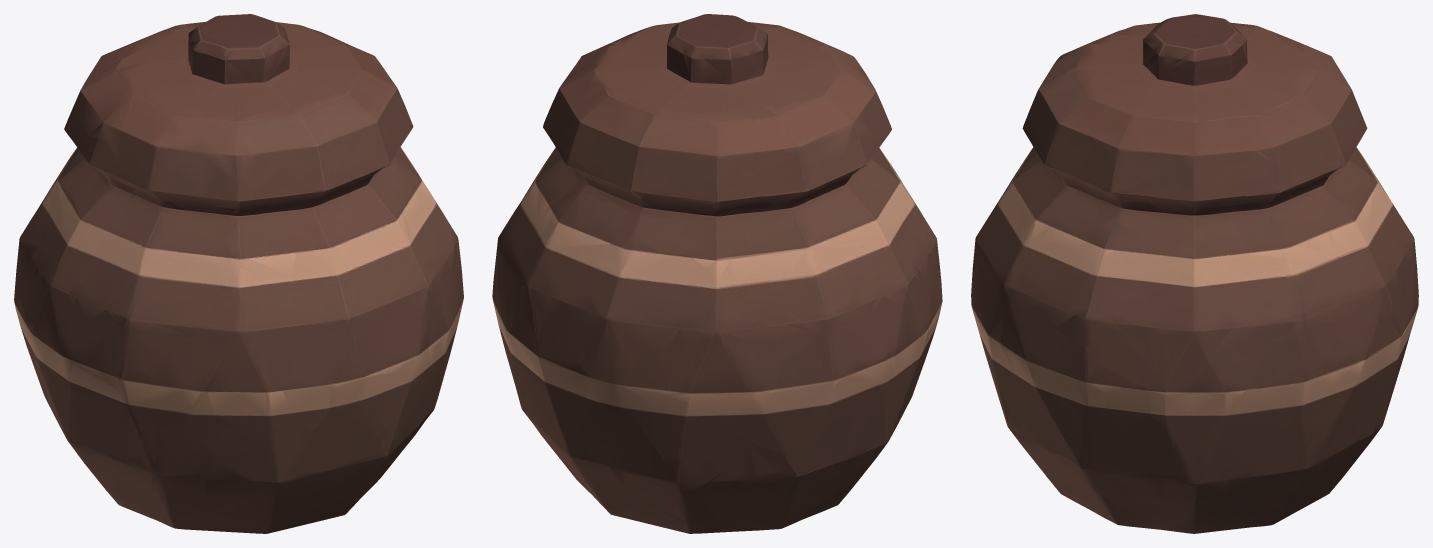
The model's file is onggi.glb.
3 renders of one model, left to right at view 1: azimuth 30°, elevation 25°; view 2: azimuth 150°, elevation 25°; view 3: azimuth 270°, elevation 25°, orthographic.
Parts seen in each view (by area): view 1: Mesh_0; view 2: Mesh_0; view 3: Mesh_0.
Part boxes in pixels (left/top/right/bottom): Mesh_0: left=14, top=14, right=463, bottom=533; Mesh_0: left=492, top=14, right=942, bottom=533; Mesh_0: left=971, top=14, right=1418, bottom=533.
Bounding box in the file's own units: 1.8 × 2 × 1.83.
Materials: 1 (1 with a texture image).
